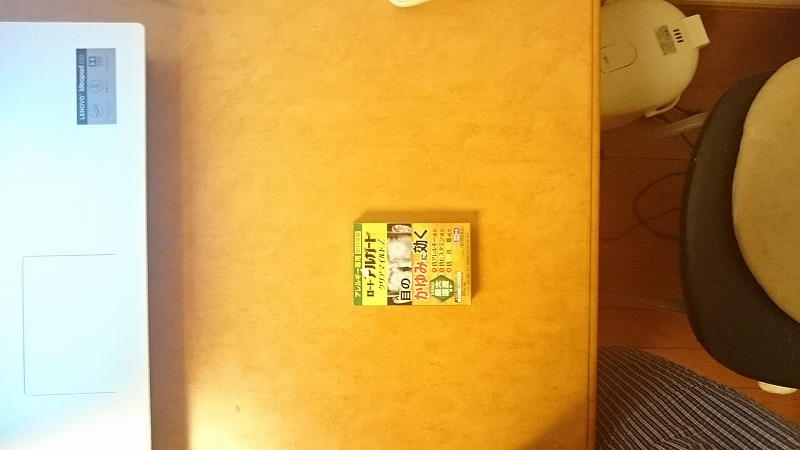C: (352, 221, 475, 312)
